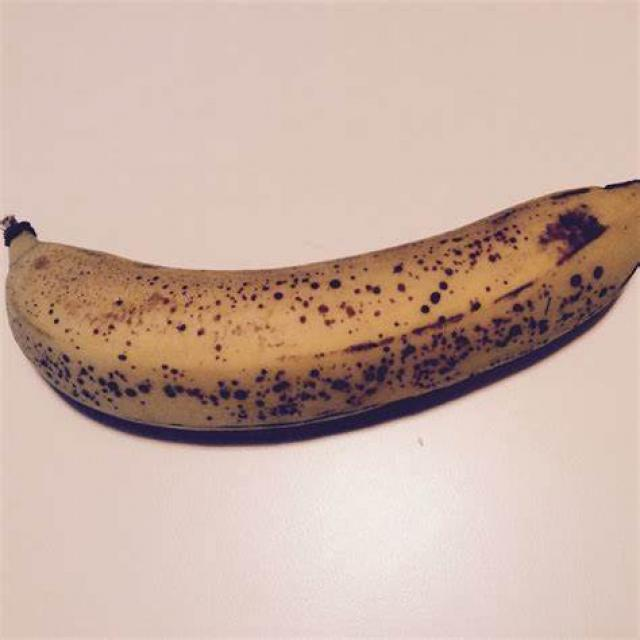Banana: (0, 170, 640, 447)
